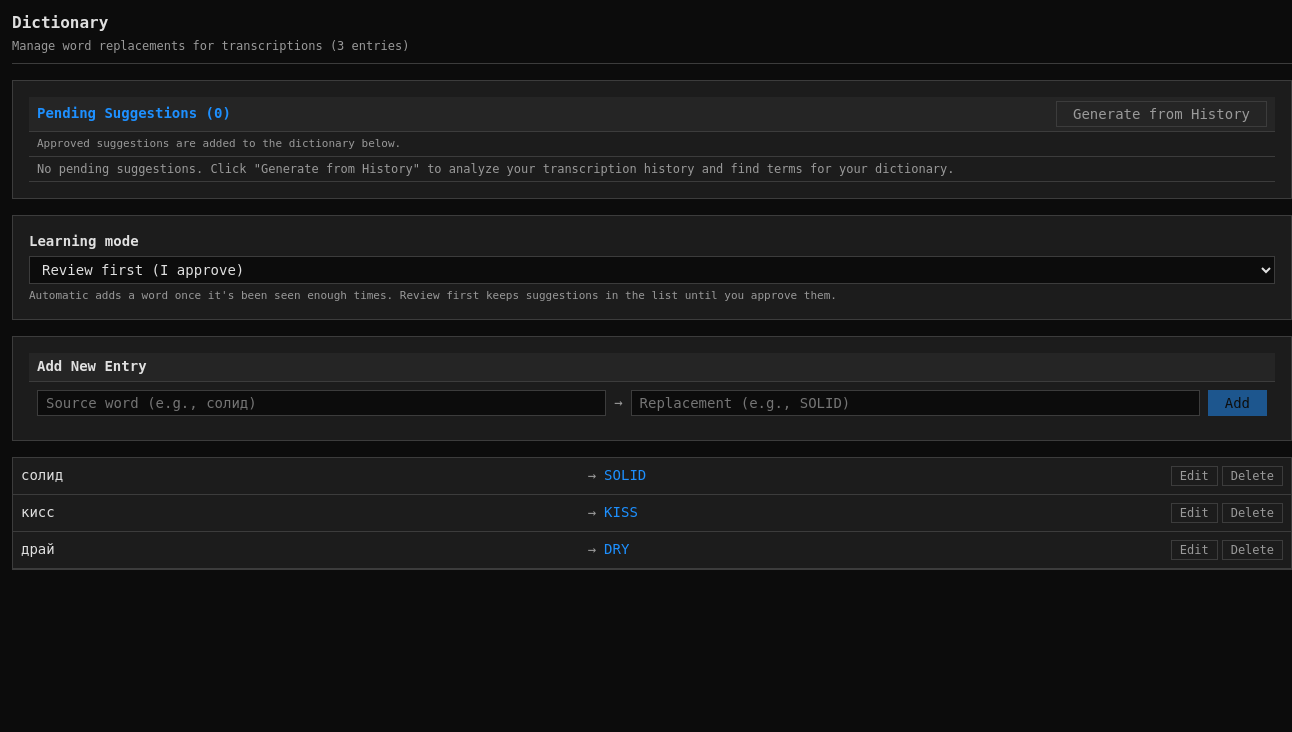
Scenario: DictionaryPage › cancels edit mode when cancel is clicked
The width and height of the screenshot is (1292, 732).
# Click edit on first entry
Click the button "Edit" in the row of "SOLID": [1194, 476] box left=1171, top=466, right=1218, bottom=486
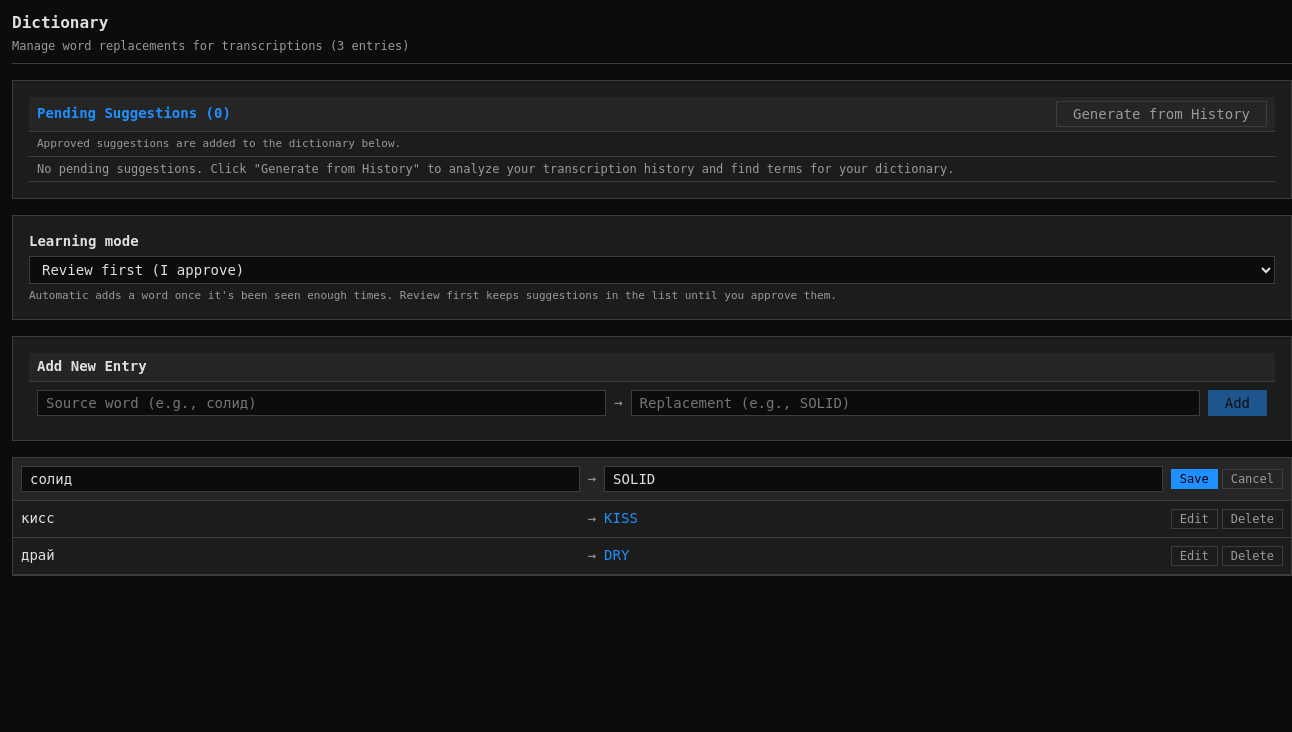
# Should show cancel button
Click the button "Cancel": [1252, 479] box left=1222, top=469, right=1283, bottom=489
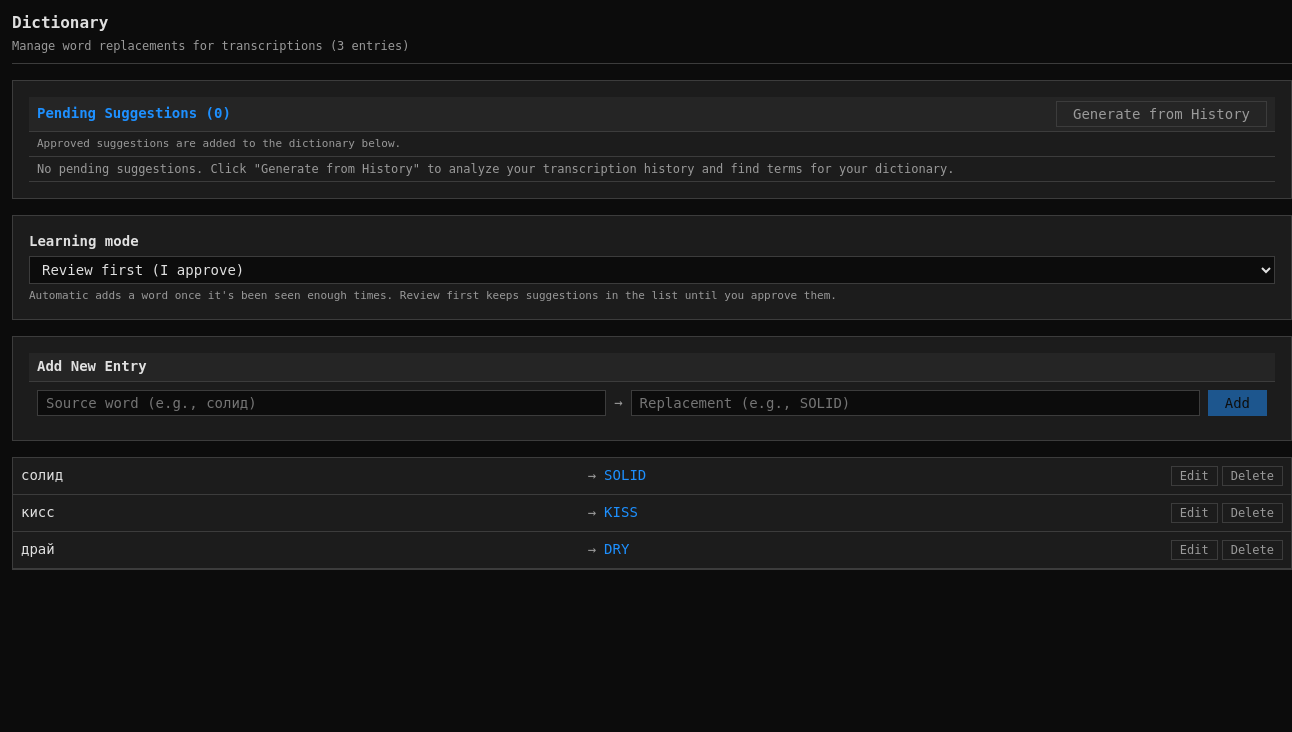
Check: the text "солид" is shown, box left=21, top=467, right=63, bottom=483
